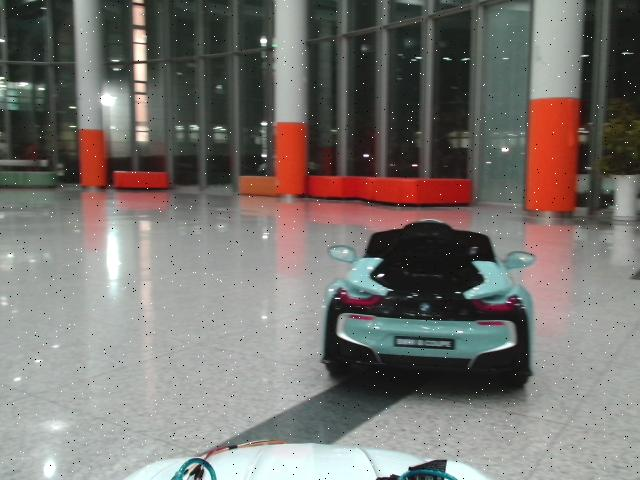car: (323, 220, 537, 389)
